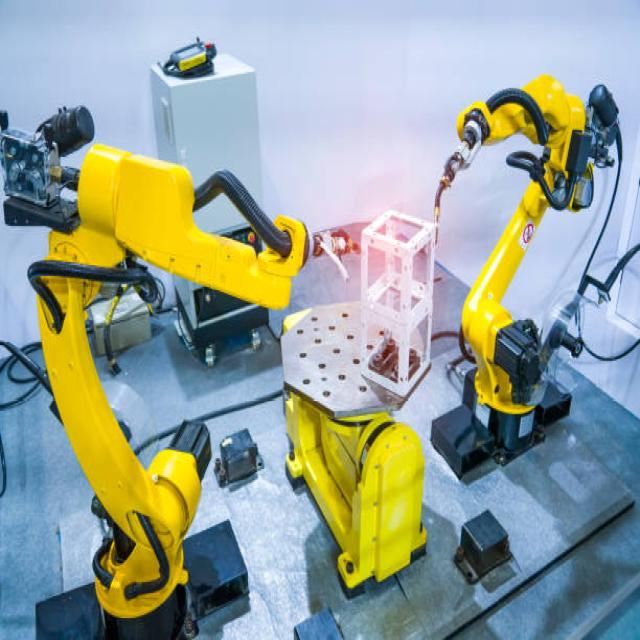Robotic-arm: (0, 99, 304, 640), (438, 61, 622, 478)
